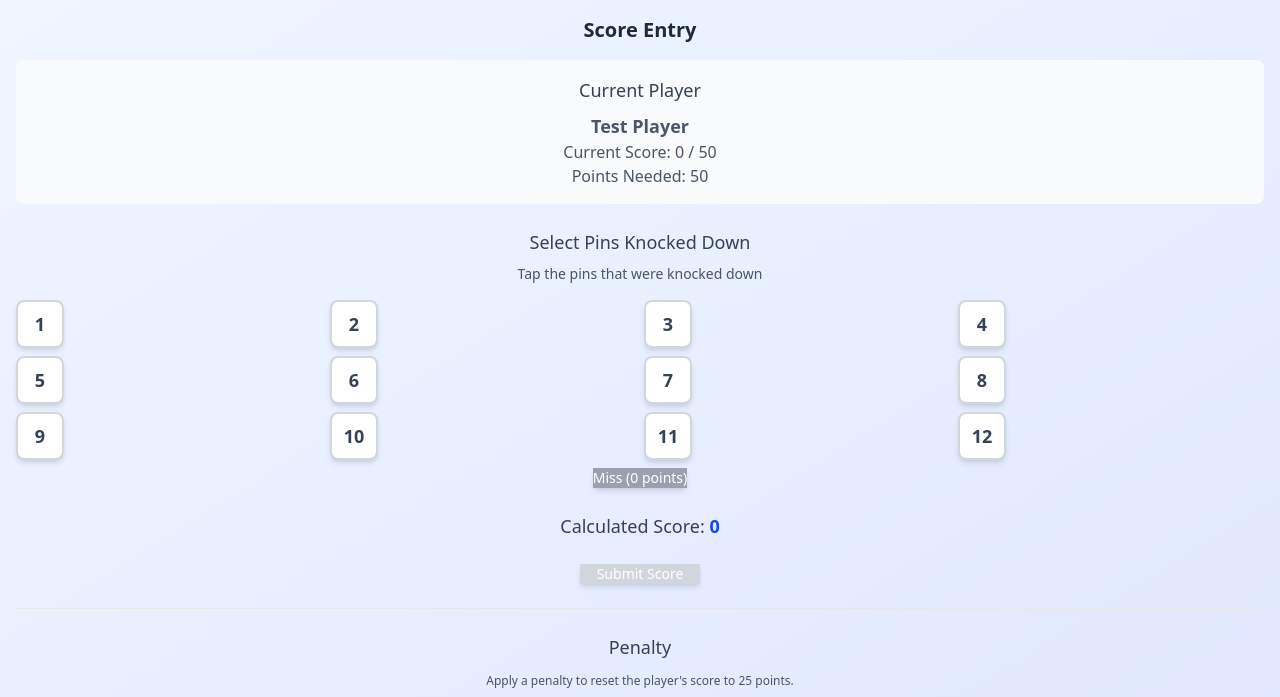
Test: ScoreInput Component - New Interface › Single Pin Selection › should show correct calculated score for single pin
Click the button "7" at x=668, y=380, box top-left (644, 356), bottom-right (692, 404)
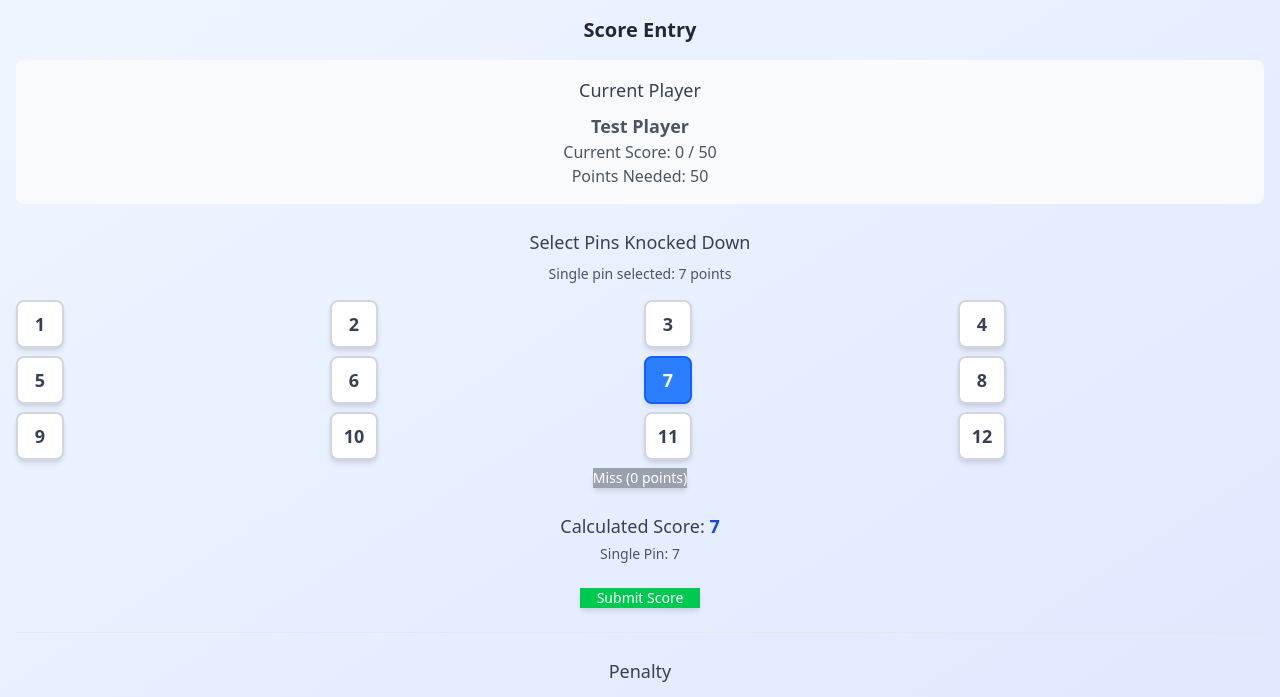
Expected: the text "Calculated Score:" is shown, top-left (560, 514), bottom-right (705, 538)
Expected: the text "Calculated Score: 7" is shown, top-left (560, 514), bottom-right (720, 538)
Expected: the text "Single Pin: 7" is shown, top-left (600, 544), bottom-right (680, 563)
